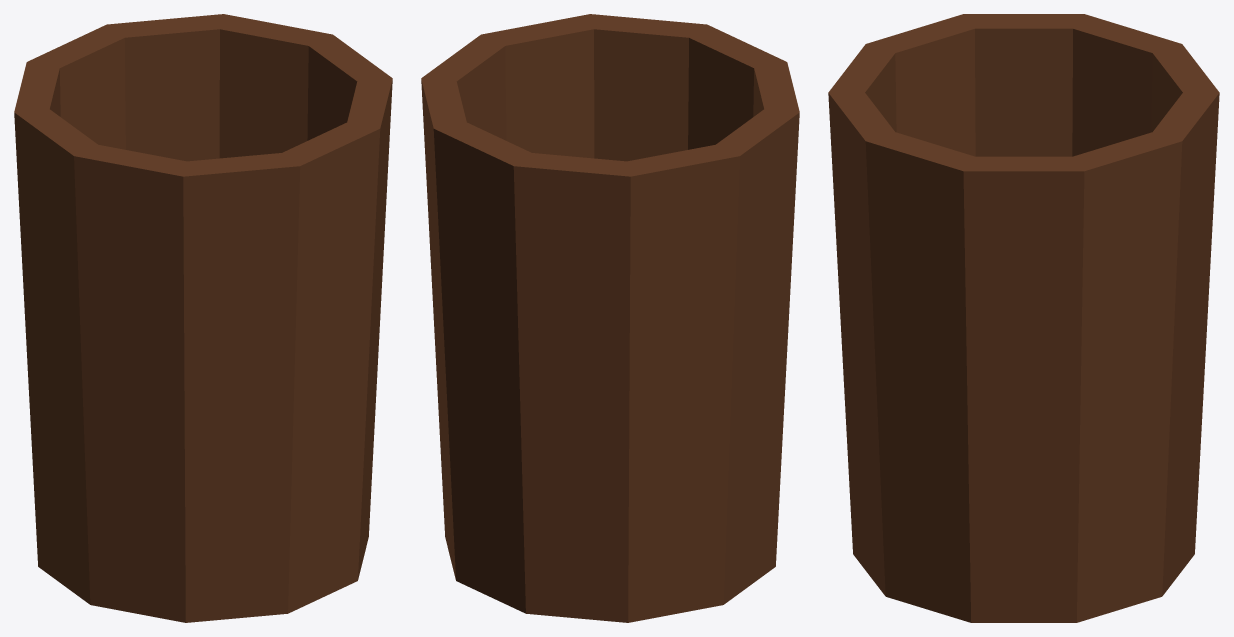
The model's file is tablecupwood01.gltf.
The picture shows the model from 3 angles, left to right: view 1: azimuth 30°, elevation 25°; view 2: azimuth 150°, elevation 25°; view 3: azimuth 270°, elevation 25°; orthographic projection.
Parts seen in each view (by area): view 1: Cylinder.001; view 2: Cylinder.001; view 3: Cylinder.001.
Boxes of the visible parts, x1,y1,x2,y2 form: Cylinder.001: (14, 14, 392, 622); Cylinder.001: (421, 14, 799, 622); Cylinder.001: (828, 14, 1219, 622).
Bounding box in the file's own units: 0.0858 × 0.1174 × 0.0902.
Materials: 1 (1 with a texture image).
